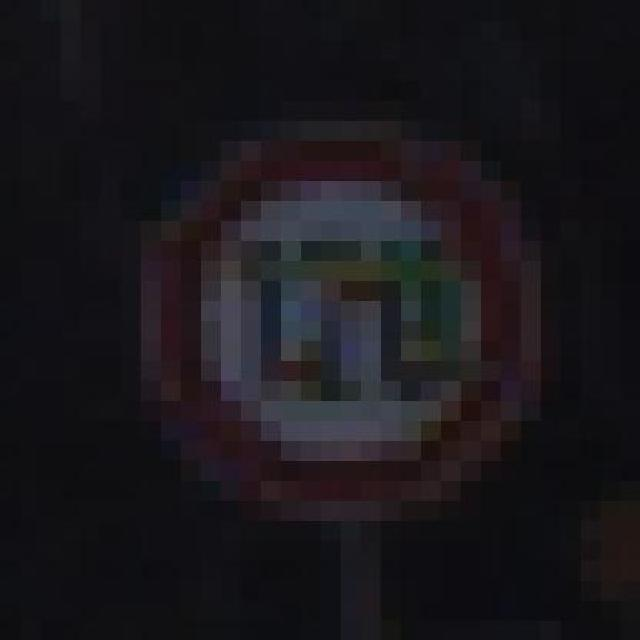forb_speed_over_120: (153, 140, 530, 497)
